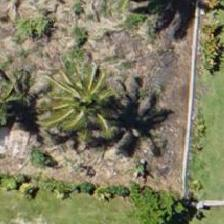coconut_tree: (39, 52, 129, 142), (0, 42, 45, 132)
